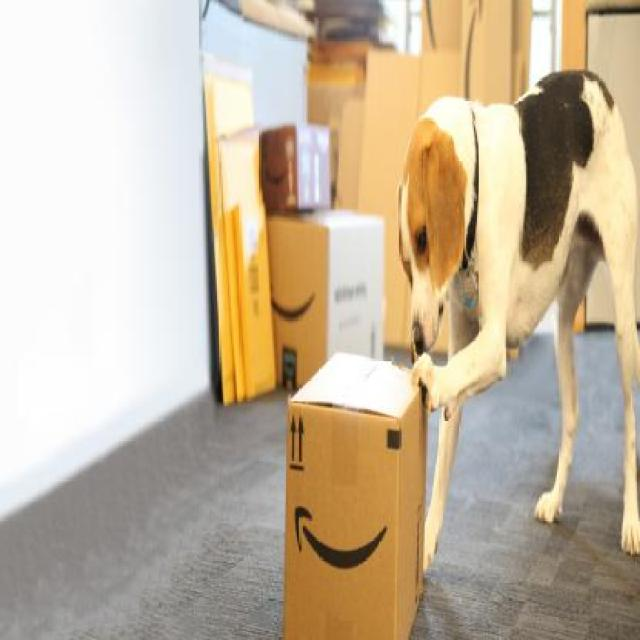cardboxes: (278, 341, 438, 640), (258, 200, 388, 391), (257, 115, 332, 211)
